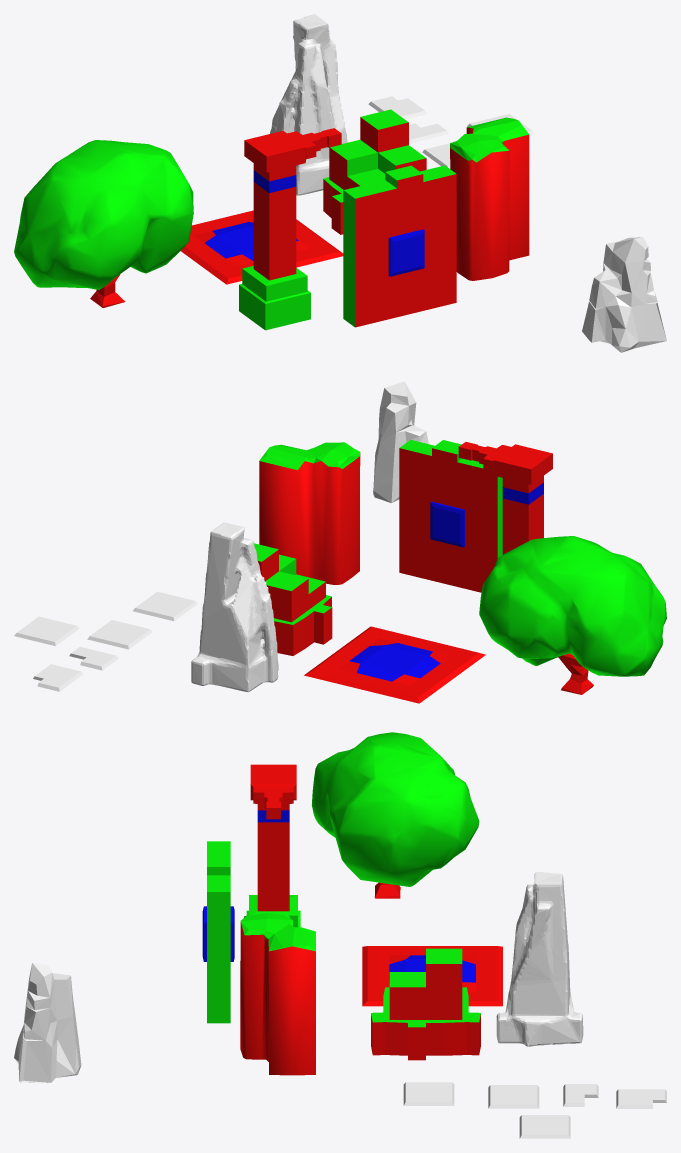
The model's file is Props_Ruins_01.fbx.
3 renders of one model, top to bottom at view 1: azimuth 30°, elevation 25°; view 2: azimuth 150°, elevation 25°; view 3: azimuth 270°, elevation 25°, orthographic. The views are drawn at different scales.
Visible parts, largest first — view 1: Tree_0, Large_door_0, Column_0, Column_1, Column_3, Rock_0, Column_2, Floor_tile_3_r, Floor_tile_1_r, Floor_tile_2_r; view 2: Tree_0, Large_door_0, Column_0, Column_3, Floor_tile_3_r, Column_1, Column_2, Rock_0, Floor_tile_0_r, Floor_tile_0_g, Floor_tile_0_b, Floor_tile_1_r (+1 smaller); view 3: Tree_0, Column_0, Column_3, Column_2, Rock_0, Column_1, Floor_tile_3_r, Large_door_0, Floor_tile_0_r, Floor_tile_0_g, Floor_tile_0_b, Floor_tile_1_r (+1 smaller).
Part boxes in pixels (bbox=[...]): Tree_0: bbox=[14, 140, 193, 307]; Large_door_0: bbox=[343, 165, 456, 327]; Column_0: bbox=[450, 117, 529, 280]; Column_1: bbox=[239, 128, 341, 330]; Column_3: bbox=[270, 14, 347, 195]; Rock_0: bbox=[582, 237, 666, 352]; Column_2: bbox=[323, 109, 426, 234]; Floor_tile_3_r: bbox=[181, 210, 343, 284]; Floor_tile_1_r: bbox=[368, 96, 427, 119]; Floor_tile_2_r: bbox=[409, 123, 449, 143]; Tree_0: bbox=[479, 536, 666, 694]; Large_door_0: bbox=[399, 440, 502, 592]; Column_0: bbox=[259, 442, 360, 584]; Column_3: bbox=[191, 522, 278, 692]; Floor_tile_3_r: bbox=[304, 626, 485, 703]; Column_1: bbox=[458, 442, 552, 554]; Column_2: bbox=[254, 543, 332, 655]; Rock_0: bbox=[373, 381, 428, 502]; Floor_tile_0_r: bbox=[87, 620, 152, 649]; Floor_tile_0_g: bbox=[133, 591, 197, 621]; Floor_tile_0_b: bbox=[14, 616, 79, 646]; Floor_tile_1_r: bbox=[33, 664, 83, 691]; Tree_0: bbox=[312, 732, 479, 898]; Column_0: bbox=[240, 913, 315, 1075]; Column_3: bbox=[496, 872, 583, 1046]; Column_2: bbox=[371, 948, 480, 1060]; Rock_0: bbox=[14, 963, 81, 1082]; Column_1: bbox=[246, 764, 300, 927]; Floor_tile_3_r: bbox=[362, 946, 502, 1006]; Large_door_0: bbox=[202, 841, 234, 1023]; Floor_tile_0_r: bbox=[488, 1085, 539, 1108]; Floor_tile_0_g: bbox=[403, 1082, 454, 1105]; Floor_tile_0_b: bbox=[519, 1115, 570, 1138]; Floor_tile_1_r: bbox=[616, 1089, 666, 1108].
Bounding box in the file's own units: 16.58 × 4.79 × 15.99.
